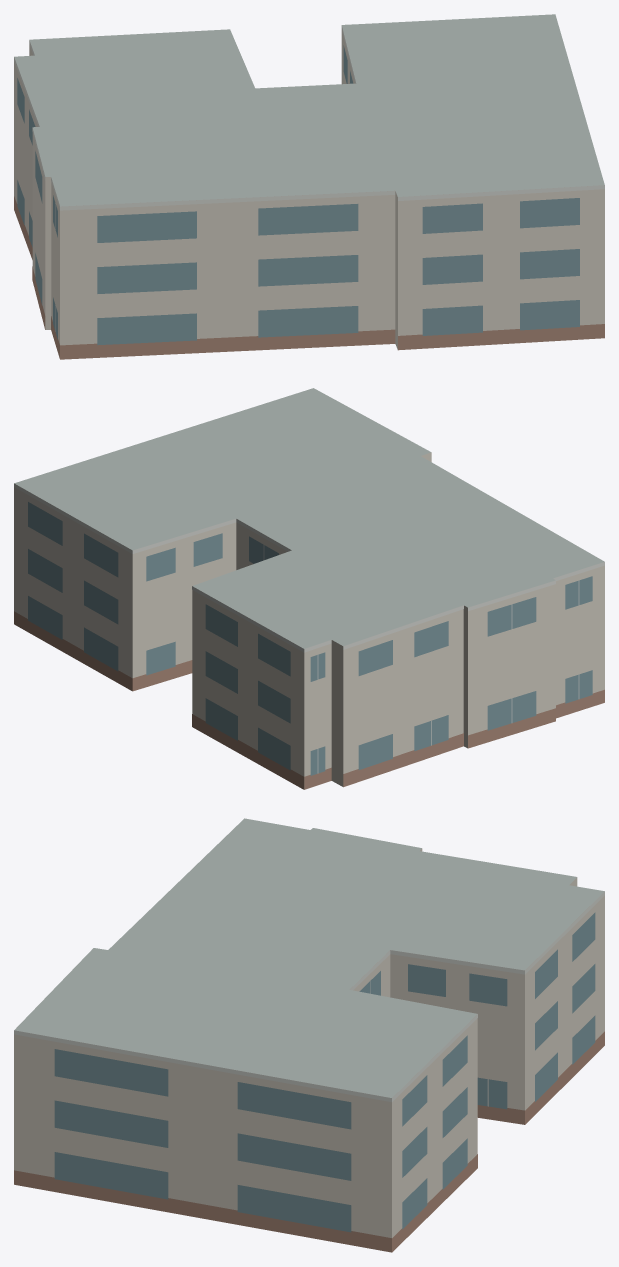
The model's file is survey-upis-32884792.glb.
3 views of the same model, one above another, from view 1: azimuth 30°, elevation 25°; view 2: azimuth 150°, elevation 25°; view 3: azimuth 270°, elevation 25° (orthographic). The views are drawn at different scales.
Parts seen in each view (by area): view 1: survey-upis-32884792.tmp; view 2: survey-upis-32884792.tmp; view 3: survey-upis-32884792.tmp.
Boxes of the visible parts, <box> form: survey-upis-32884792.tmp: <box>14,14,604,359</box>; survey-upis-32884792.tmp: <box>14,388,604,789</box>; survey-upis-32884792.tmp: <box>14,818,604,1252</box>.
Bounding box in the file's own units: 35.57 × 9.15 × 31.74.
